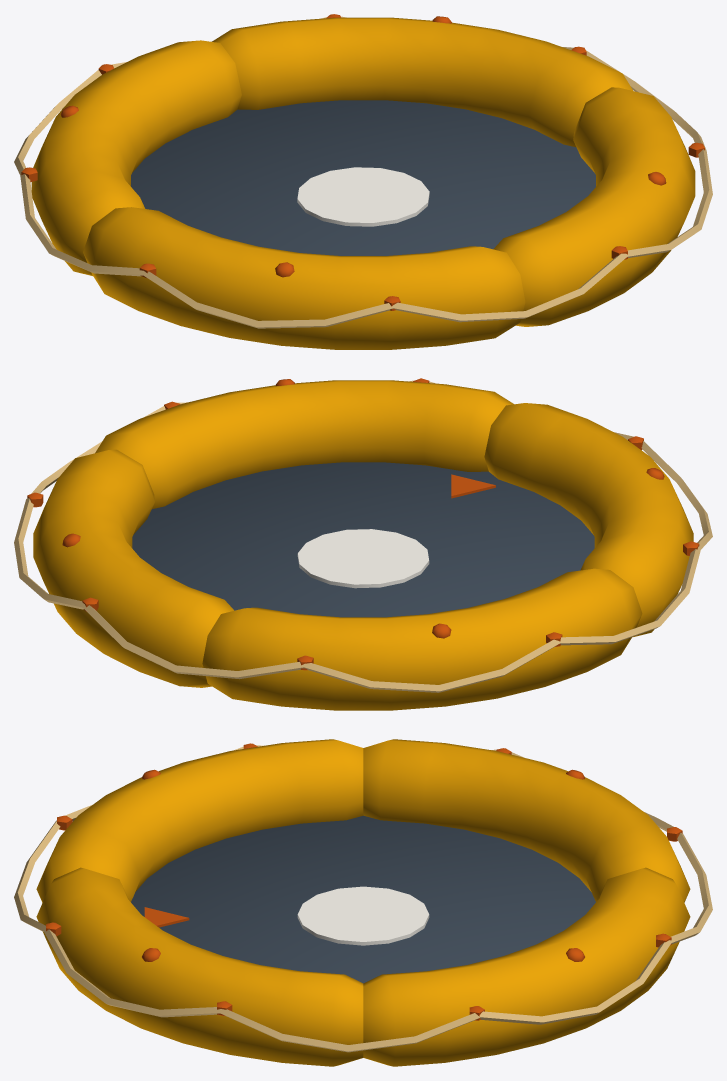
File: MiniRaft_J1.fbx
3 renders of one model, top to bottom at view 1: azimuth 30°, elevation 25°; view 2: azimuth 150°, elevation 25°; view 3: azimuth 270°, elevation 25°, orthographic.
Visible parts, largest first — view 1: Raft_Floor, Chamber_0_NE, Chamber_3_SO, Chamber_1_NO, Chamber_2_SE, Raft_Rope; view 2: Raft_Floor, Chamber_2_SE, Chamber_1_NO, Chamber_3_SO, Chamber_0_NE, Raft_Rope; view 3: Raft_Floor, Chamber_3_SO, Chamber_1_NO, Chamber_0_NE, Chamber_2_SE, Raft_Rope.
Boxes of the visible parts, left/top/right/bottom form: Raft_Floor: left=131, top=100, right=595, bottom=255; Chamber_0_NE: left=83, top=207, right=525, bottom=349; Chamber_3_SO: left=212, top=16, right=633, bottom=147; Chamber_1_NO: left=493, top=87, right=695, bottom=326; Chamber_2_SE: left=31, top=40, right=241, bottom=275; Raft_Rope: left=14, top=14, right=712, bottom=328; Raft_Floor: left=132, top=462, right=594, bottom=617; Chamber_2_SE: left=202, top=568, right=642, bottom=710; Chamber_1_NO: left=95, top=379, right=513, bottom=508; Chamber_3_SO: left=33, top=449, right=233, bottom=687; Chamber_0_NE: left=484, top=403, right=693, bottom=637; Raft_Rope: left=14, top=378, right=712, bottom=692; Raft_Floor: left=131, top=815, right=595, bottom=983; Chamber_3_SO: left=363, top=867, right=690, bottom=1066; Chamber_1_NO: left=36, top=867, right=363, bottom=1066; Chamber_0_NE: left=36, top=739, right=363, bottom=902; Chamber_2_SE: left=363, top=739, right=690, bottom=902; Raft_Rope: left=14, top=743, right=712, bottom=1052.
Bounding box in the file's own units: 2.13 × 0.3 × 2.13.
